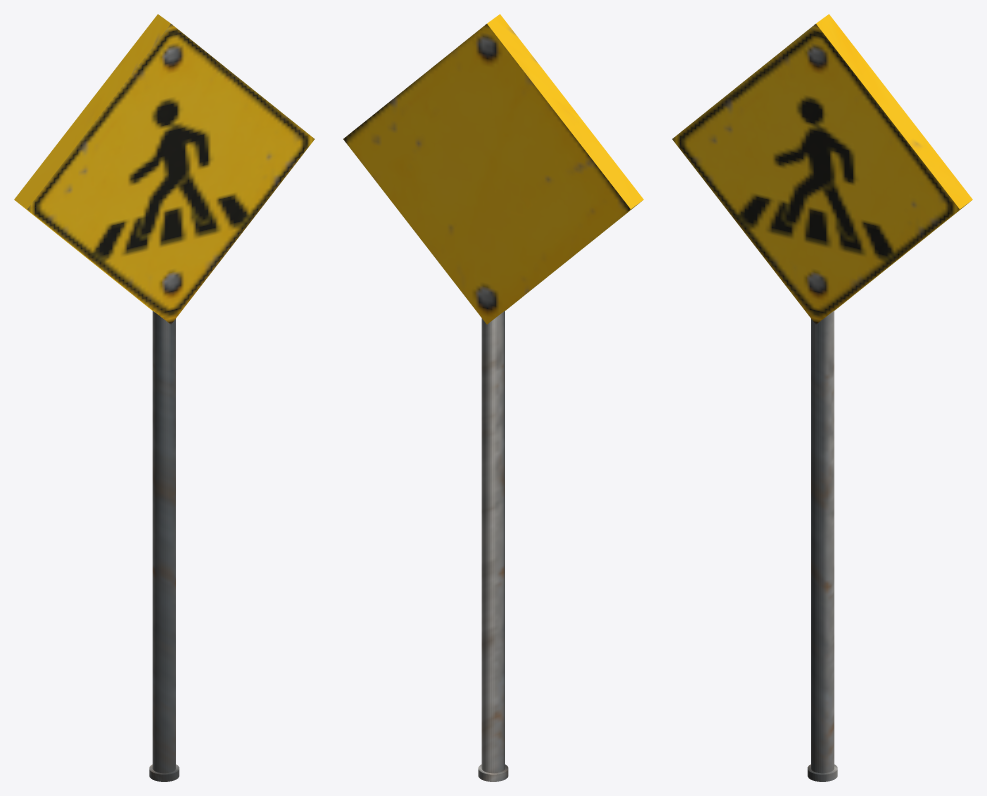
File: yaya geçidi tabelası yeni.fbx
The picture shows the model from 3 angles, left to right: view 1: azimuth 30°, elevation 25°; view 2: azimuth 150°, elevation 25°; view 3: azimuth 330°, elevation 25°; orthographic projection.
Parts seen in each view (by area): view 1: Plane; view 2: Plane; view 3: Plane.
Boxes of the visible parts, x1,y1,x2,y2 form: Plane: (14, 14, 314, 781); Plane: (343, 14, 643, 781); Plane: (672, 14, 972, 781).
Size of the model in its own units: 134 by 337 by 12.19.
Materials: 1 (1 with a texture image).
